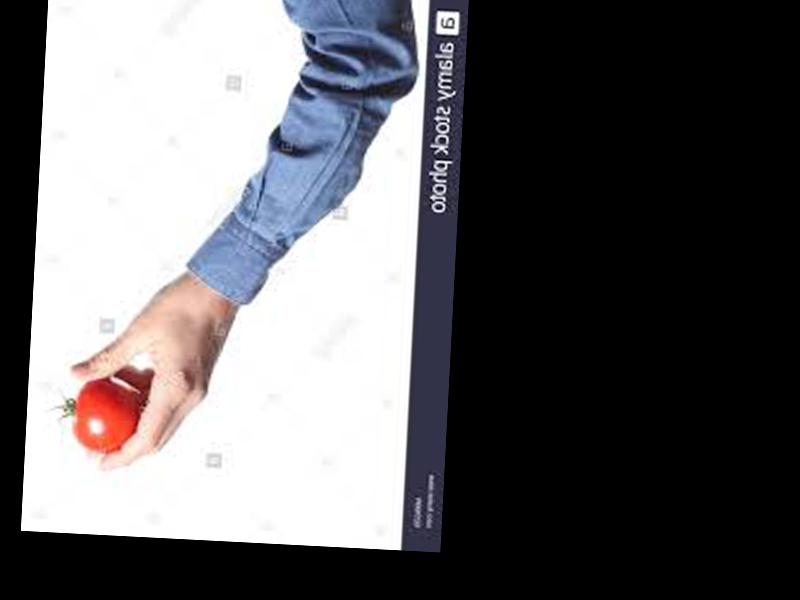Tomato: (73, 379, 138, 455)
